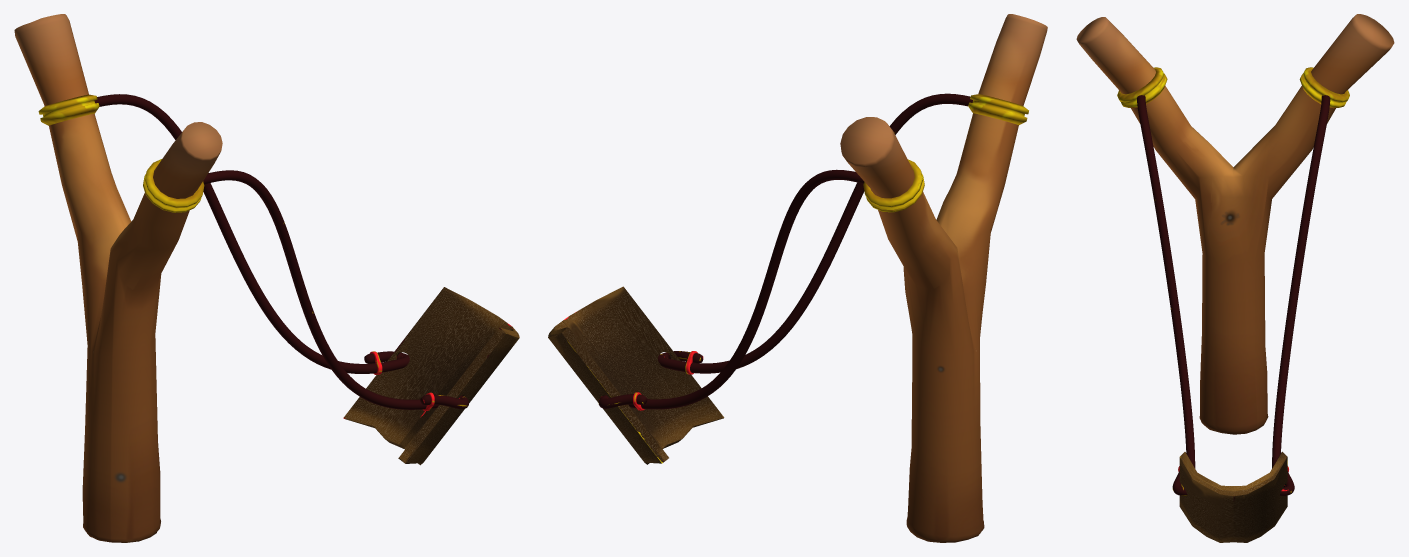
Rendered from StylizedSlingshot.fbx.
3 views of the same model, side by side, from view 1: azimuth 30°, elevation 25°; view 2: azimuth 150°, elevation 25°; view 3: azimuth 270°, elevation 25° (orthographic). The views are drawn at different scales.
Visible parts, largest first — view 1: Slingshot, Seat, Rubber, Rings; view 2: Slingshot, Seat, Rubber, Rings; view 3: Slingshot, Rubber, Seat, Rings.
Boxes of the visible parts, x1,y1,x2,y2 form: Slingshot: (14,14,222,542); Seat: (343,287,519,465); Rubber: (94,94,468,410); Rings: (38,94,204,212); Slingshot: (840,14,1047,542); Seat: (548,286,724,464); Rubber: (598,93,972,410); Rings: (863,94,1028,212); Slingshot: (1076,14,1394,434); Rubber: (1137,95,1330,495); Seat: (1179,451,1287,542); Rings: (1117,67,1349,108).
Size of the model in its own units: 1249 by 1297 by 926.
Materials: 2 (2 with a texture image).
